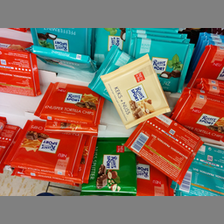chocolate: (124, 112, 198, 178), (105, 58, 172, 123), (6, 119, 82, 172), (126, 36, 187, 92), (81, 136, 138, 192), (36, 82, 102, 124), (172, 91, 223, 140), (30, 45, 96, 75), (1, 49, 36, 96)
